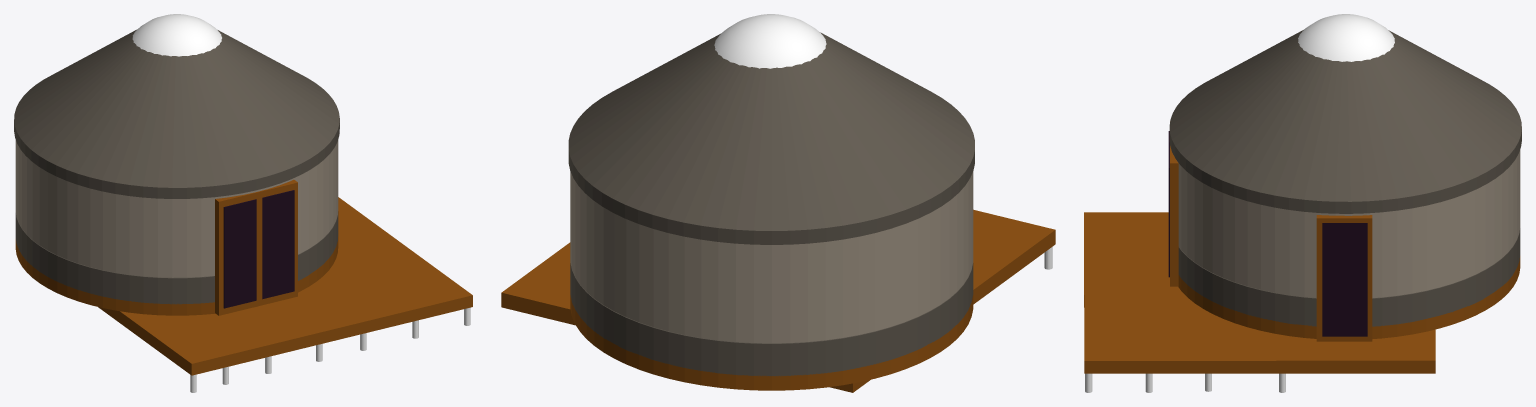
Rendered from jurt.fbx.
The picture shows the model from 3 angles, left to right: view 1: azimuth 30°, elevation 25°; view 2: azimuth 150°, elevation 25°; view 3: azimuth 270°, elevation 25°; orthographic projection. The views are drawn at different scales.
Parts seen in each view (by area): view 1: Circle.003_7, Plane.001_9, Circle.002_6, Cube.001_11, Circle.001_3, Circle_2, Sphere_8, Cube_10, Plane.002_12; view 2: Circle.003_7, Circle.002_6, Circle.001_3, Plane.001_9, Circle_2, Sphere_8; view 3: Circle.003_7, Plane.001_9, Circle.002_6, Circle.001_3, Cube.003_14, Circle_2, Sphere_8, Cube.002_13, Cube_10.
Boxes of the visible parts, <box> form: Circle.003_7: <box>14,29,339,198</box>; Plane.001_9: <box>98,197,472,375</box>; Circle.002_6: <box>15,140,338,277</box>; Cube.001_11: <box>223,190,294,308</box>; Circle.001_3: <box>15,211,338,304</box>; Circle_2: <box>15,237,338,315</box>; Sphere_8: <box>132,14,221,56</box>; Cube_10: <box>215,179,297,315</box>; Plane.002_12: <box>256,197,262,301</box>; Circle.003_7: <box>568,32,974,244</box>; Circle.002_6: <box>570,171,973,343</box>; Circle.001_3: <box>570,262,973,376</box>; Plane.001_9: <box>501,209,1055,392</box>; Circle_2: <box>570,295,973,390</box>; Sphere_8: <box>714,14,826,68</box>; Circle.003_7: <box>1169,30,1521,213</box>; Plane.001_9: <box>1084,212,1435,373</box>; Circle.002_6: <box>1177,150,1520,298</box>; Circle.001_3: <box>1178,228,1520,326</box>; Cube.003_14: <box>1322,223,1367,336</box>; Circle_2: <box>1178,256,1520,338</box>; Sphere_8: <box>1298,14,1394,61</box>; Cube.002_13: <box>1316,215,1372,341</box>; Cube_10: <box>1170,146,1178,286</box>.
Bounding box in the file's own units: 638 × 501 × 707.
